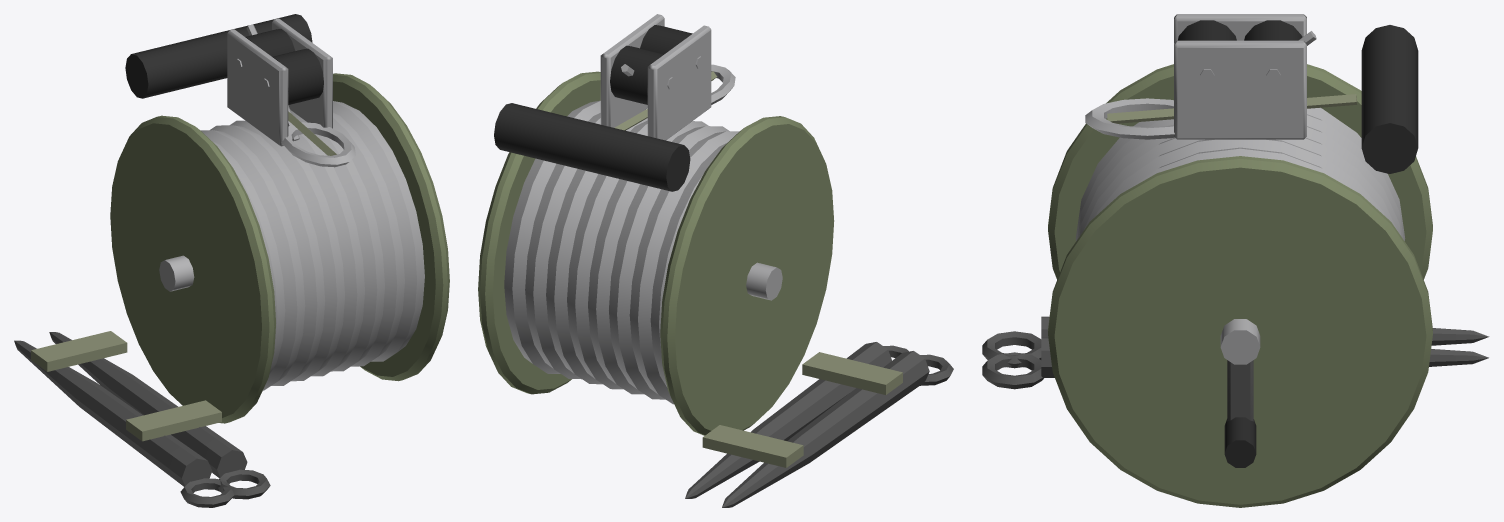
The model's file is zipline_kit.glb.
3 views of the same model, side by side, from view 1: azimuth 30°, elevation 25°; view 2: azimuth 150°, elevation 25°; view 3: azimuth 270°, elevation 25° (orthographic). The views are drawn at different scales.
Parts seen in each view (by area): view 1: body; view 2: body; view 3: body.
Part boxes in pixels (box(x1,y1,x2,y2)): body: box(14, 14, 449, 507); body: box(478, 14, 953, 507); body: box(982, 14, 1489, 507).
Bounding box in the file's own units: 0.1442 × 0.1415 × 0.1527.
